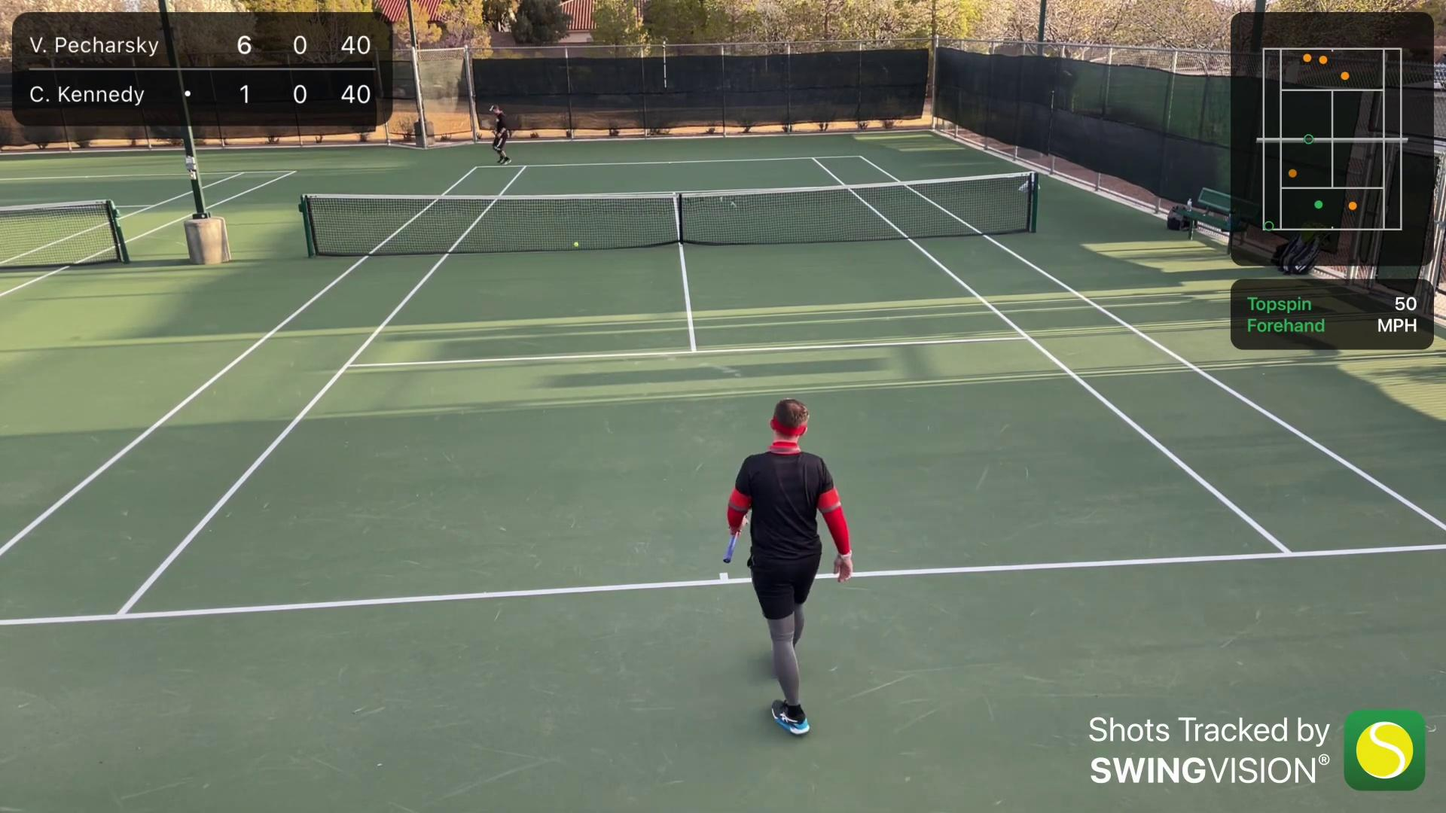ball: (574, 242, 580, 247)
